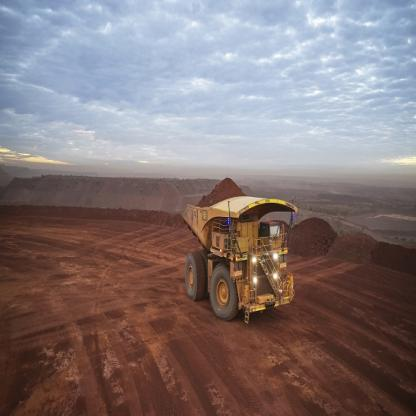dump_truck: (181, 175, 300, 325)
